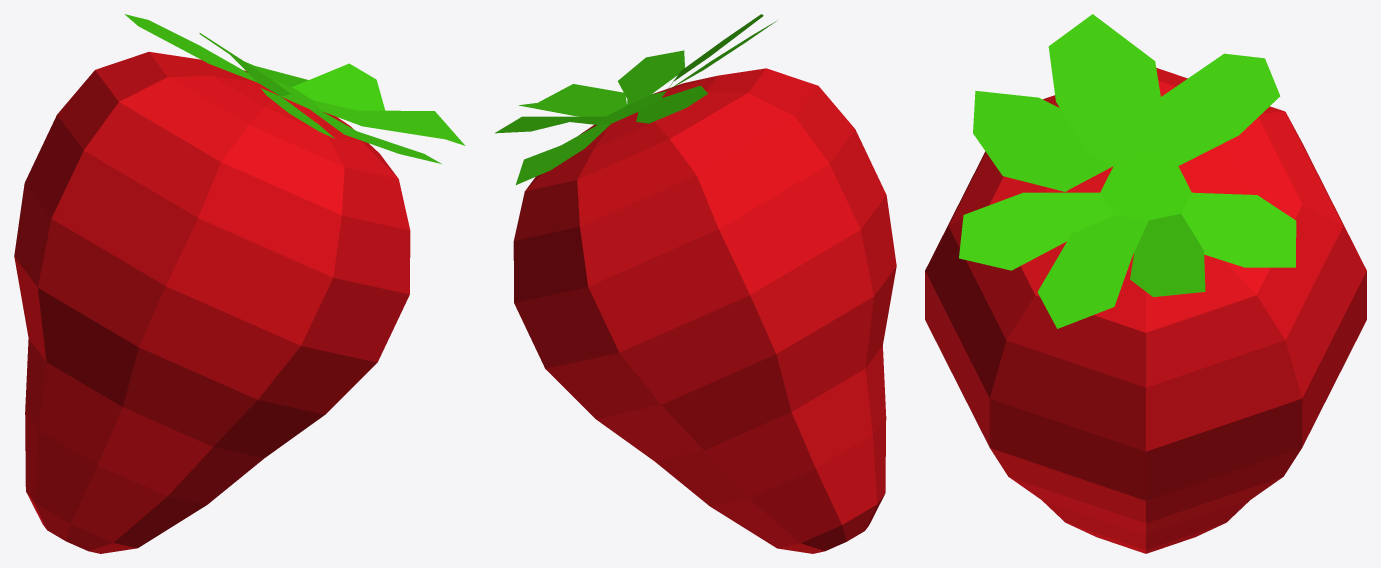
The model's file is Strawberry.fbx.
3 views of the same model, side by side, from view 1: azimuth 30°, elevation 25°; view 2: azimuth 150°, elevation 25°; view 3: azimuth 270°, elevation 25° (orthographic). The views are drawn at different scales.
Parts seen in each view (by area): view 1: Circle; view 2: Circle; view 3: Circle.
Part boxes in pixels (x1,y1,x2,y2): Circle: [14, 14, 465, 553]; Circle: [495, 14, 896, 553]; Circle: [925, 14, 1366, 553].
Bounding box in the file's own units: 729 × 914 × 644.
